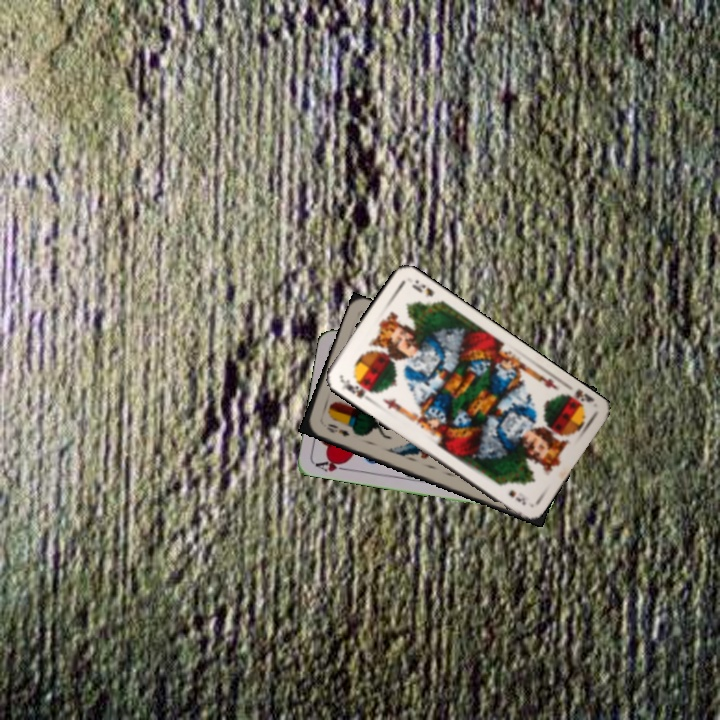EO: (322, 419, 352, 439)
HA: (311, 454, 352, 474)
SK: (337, 372, 376, 404), (557, 385, 596, 410)
